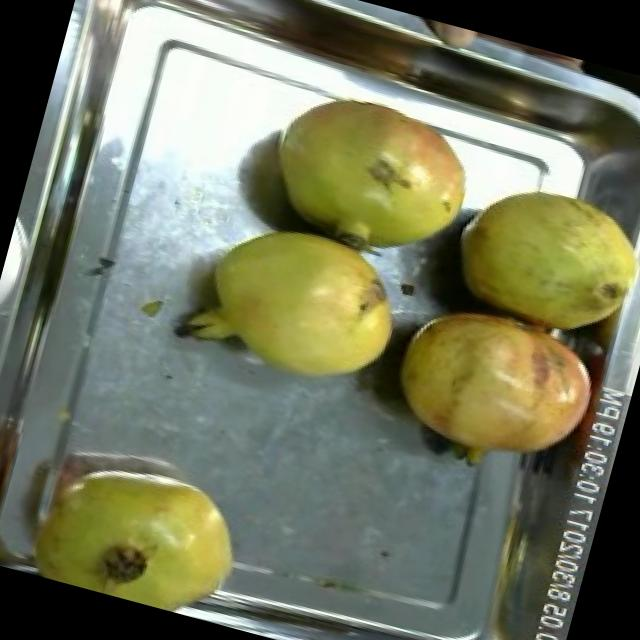fruit: (368, 278, 617, 504), (2, 425, 270, 628), (243, 72, 500, 281), (173, 196, 425, 408), (426, 150, 640, 358)
